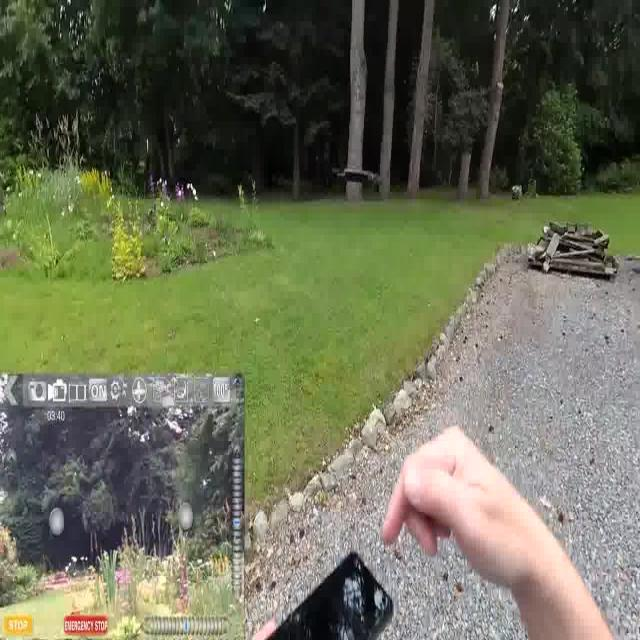drones: (324, 153, 390, 206)
